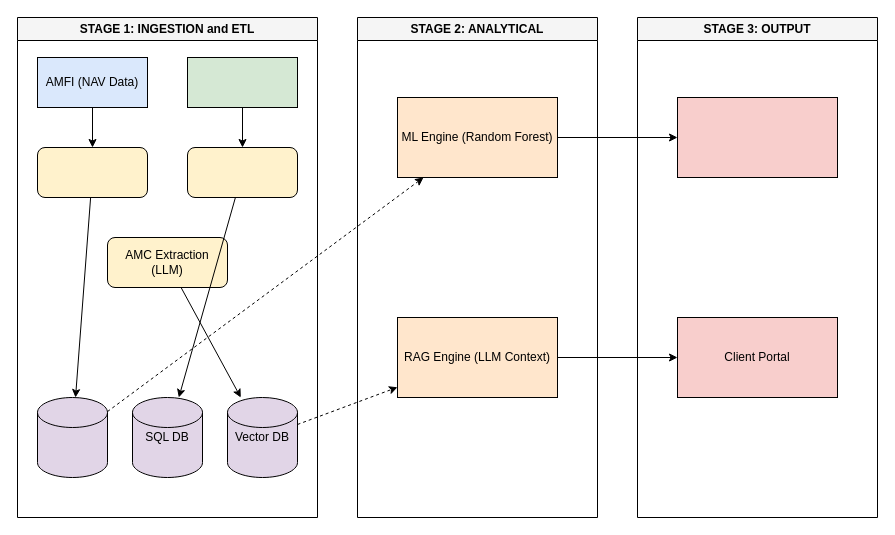
This 895x535 diagram has some shape labels left out. The centre of each missing label's shape, as x and y in pixels:
"Advisor Dashboard" goes at (757,137).
"MFCentral (Portfolio)" goes at (242,82).
"MongoDB" goes at (72,437).
"NAV Microservice" goes at (92,172).
"Portfolio Microservice" goes at (242,172).
